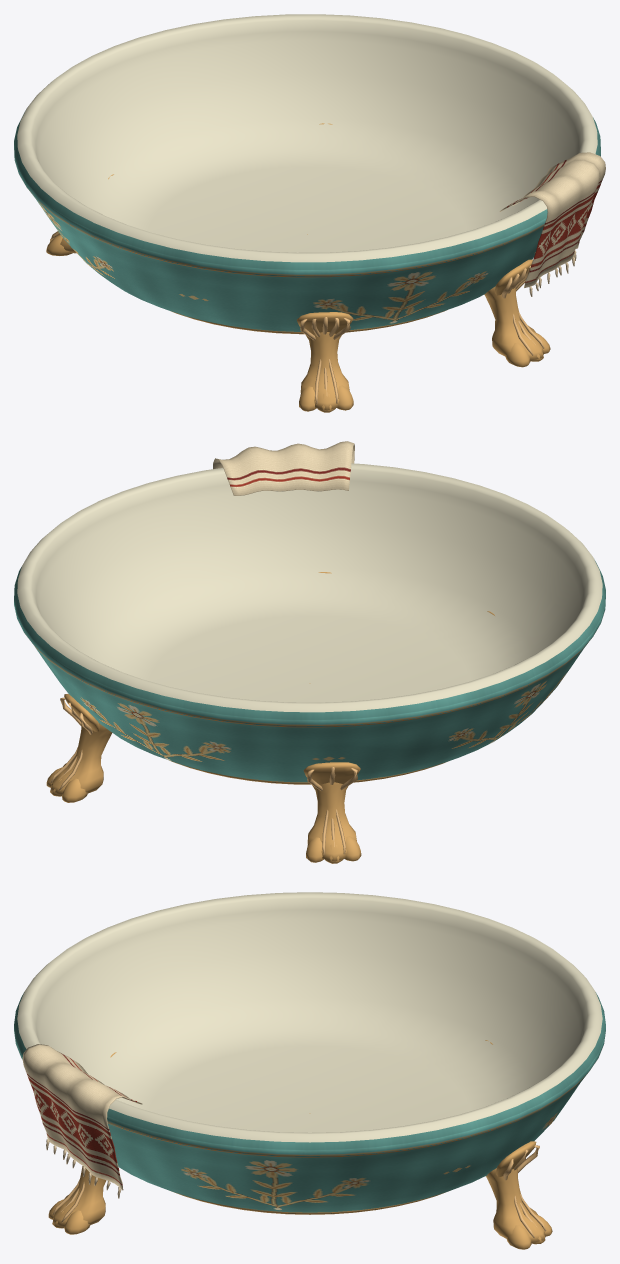
The model's file is enamel-bath.glb.
3 renders of one model, top to bottom at view 1: azimuth 30°, elevation 25°; view 2: azimuth 150°, elevation 25°; view 3: azimuth 270°, elevation 25°, orthographic.
Visible parts, largest first — view 1: Glazed inner bowl, Pressed enamel belly, Four fluted brass shell feet, Folded redwork hand towel; view 2: Glazed inner bowl, Pressed enamel belly, Four fluted brass shell feet, Folded redwork hand towel; view 3: Glazed inner bowl, Pressed enamel belly, Folded redwork hand towel, Four fluted brass shell feet, Raised lower beading.
Part boxes in pixels (left/top/right/bottom): Glazed inner bowl: left=17, top=14, right=597, bottom=262; Pressed enamel belly: left=14, top=110, right=600, bottom=331; Four fluted brass shell feet: left=46, top=123, right=550, bottom=412; Folded redwork hand towel: left=499, top=152, right=605, bottom=287; Glazed inner bowl: left=17, top=463, right=602, bottom=712; Pressed enamel belly: left=14, top=561, right=605, bottom=782; Four fluted brass shell feet: left=46, top=572, right=494, bottom=863; Folded redwork hand towel: left=213, top=441, right=354, bottom=495; Glazed inner bowl: left=17, top=892, right=602, bottom=1142; Pressed enamel belly: left=14, top=992, right=605, bottom=1212; Folded redwork hand towel: left=22, top=1044, right=142, bottom=1190; Four fluted brass shell feet: left=48, top=1040, right=552, bottom=1249; Raised lower beading: left=174, top=1192, right=445, bottom=1214.
Bounding box in the file's own units: 1.07 × 0.354 × 1.07.
6 materials, 2 textured.
